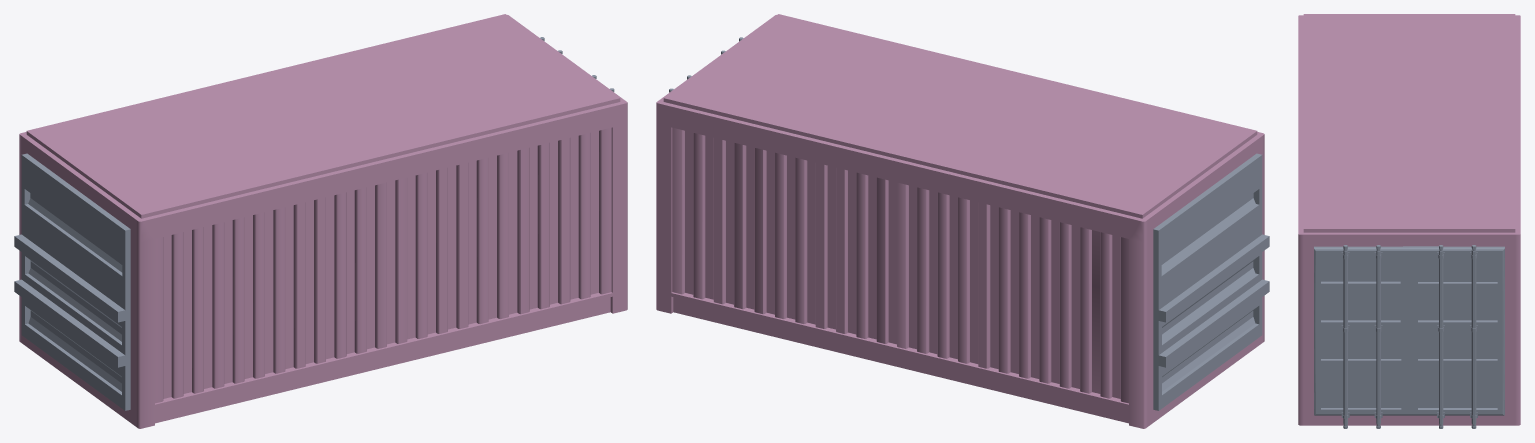
File: Mesh_container.FBX
3 renders of one model, left to right at view 1: azimuth 30°, elevation 25°; view 2: azimuth 150°, elevation 25°; view 3: azimuth 270°, elevation 25°, orthographic. The views are drawn at different scales.
Parts seen in each view (by area): view 1: Object007, Object014; view 2: Object007, Object014; view 3: Object007, Object008, Object009, Object013, Object010, Object016, Object015.
Part boxes in pixels (bbox=[...]): Object007: bbox=[19, 14, 627, 428]; Object014: bbox=[14, 153, 130, 410]; Object007: bbox=[656, 14, 1264, 428]; Object014: bbox=[1153, 153, 1269, 410]; Object007: bbox=[1298, 14, 1520, 425]; Object008: bbox=[1314, 246, 1409, 415]; Object009: bbox=[1409, 246, 1504, 415]; Object013: bbox=[1470, 245, 1477, 428]; Object010: bbox=[1341, 245, 1349, 428]; Object016: bbox=[1374, 245, 1382, 428]; Object015: bbox=[1437, 245, 1444, 428].
Bounding box in the file's own units: 714 × 280 × 291.
